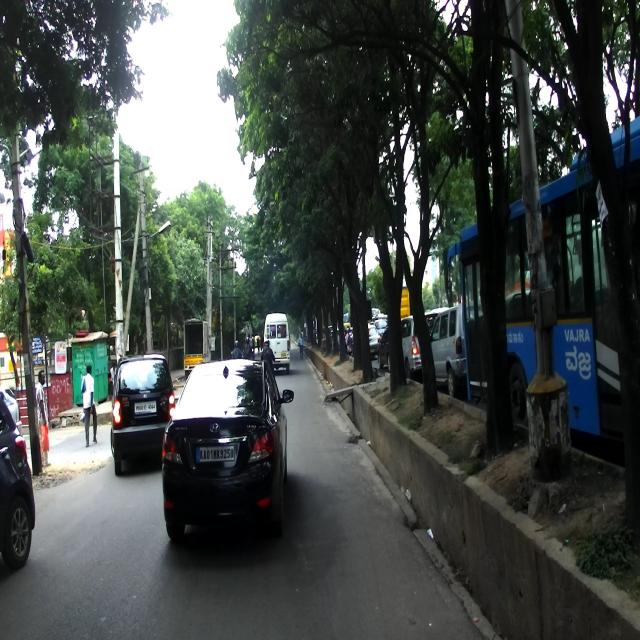bus: (447, 109, 640, 461)
car: (161, 358, 294, 540), (106, 351, 176, 476)
